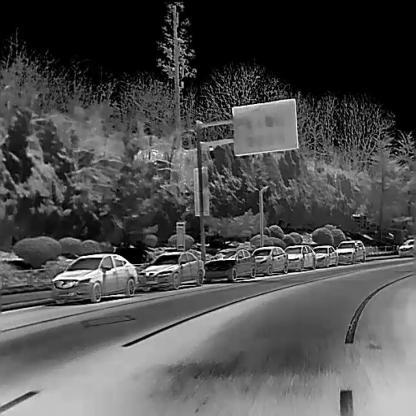car: (51, 253, 137, 301), (138, 252, 204, 289), (204, 247, 256, 279), (251, 245, 288, 273), (283, 244, 316, 268), (336, 239, 365, 262), (310, 245, 338, 266), (398, 237, 415, 255)
